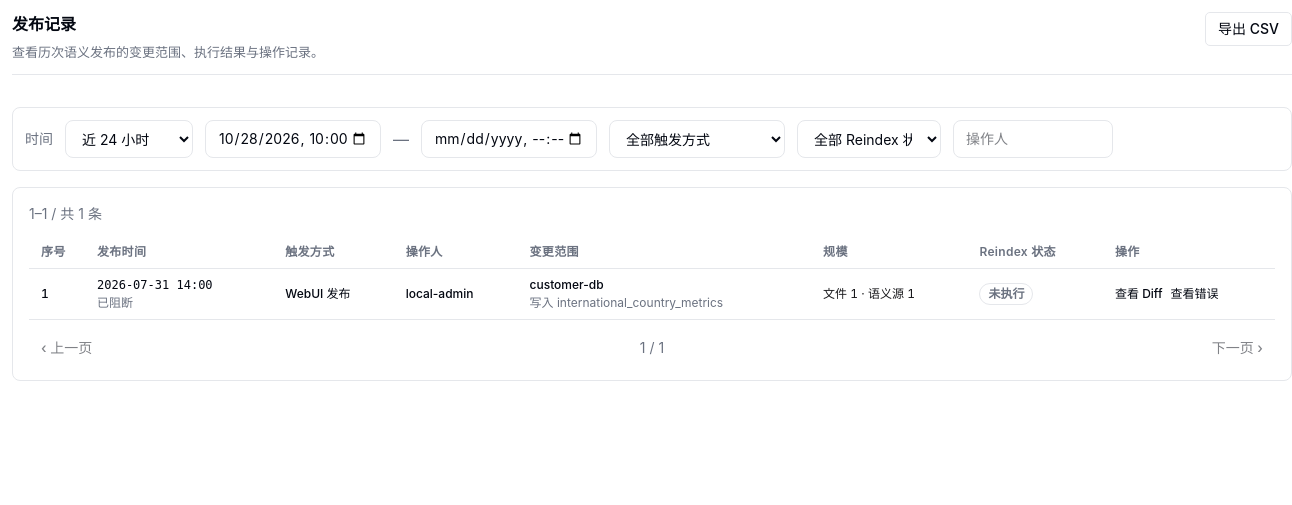
it: PublishHistory › exposes a 查看错误 action for blocked publish records and surfaces validation issues
This screenshot has width=1292, height=505.
Click the button "查看错误" at (1194, 294), box [1170,286,1218,302]
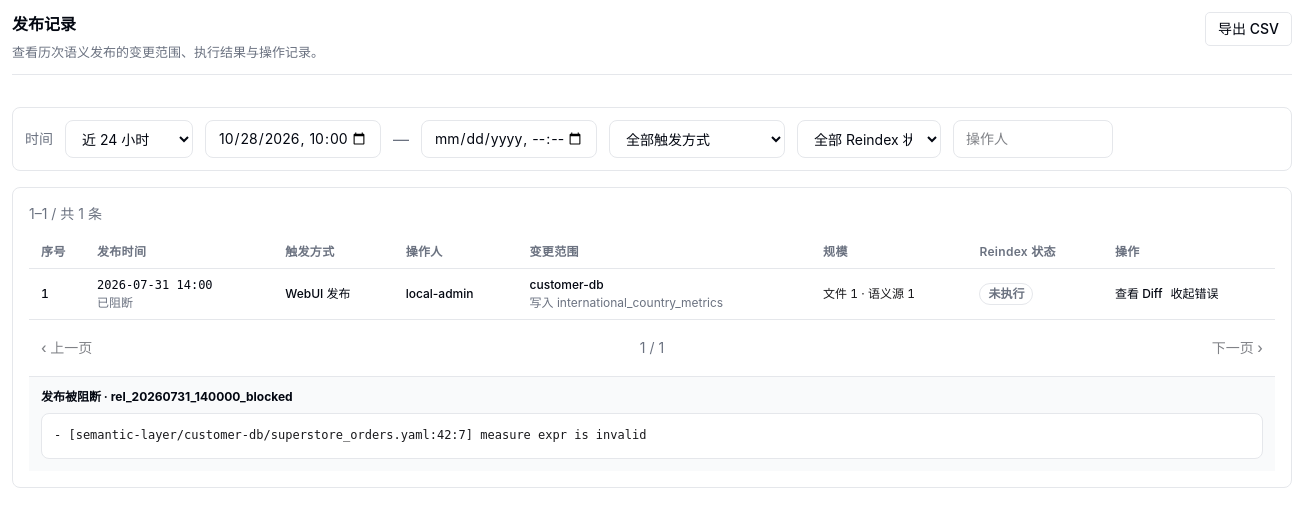
expect the element with test id "publish-history-expanded-panel" shows "发布被阻断": met, box [41,389,293,404]
expect the element with test id "publish-history-expanded-panel" shows "measure expr is invalid": met, box [54,428,646,442]
expect the element with test id "publish-history-expanded-panel" shows "superstore_orders.yaml": met, box [54,428,646,442]
